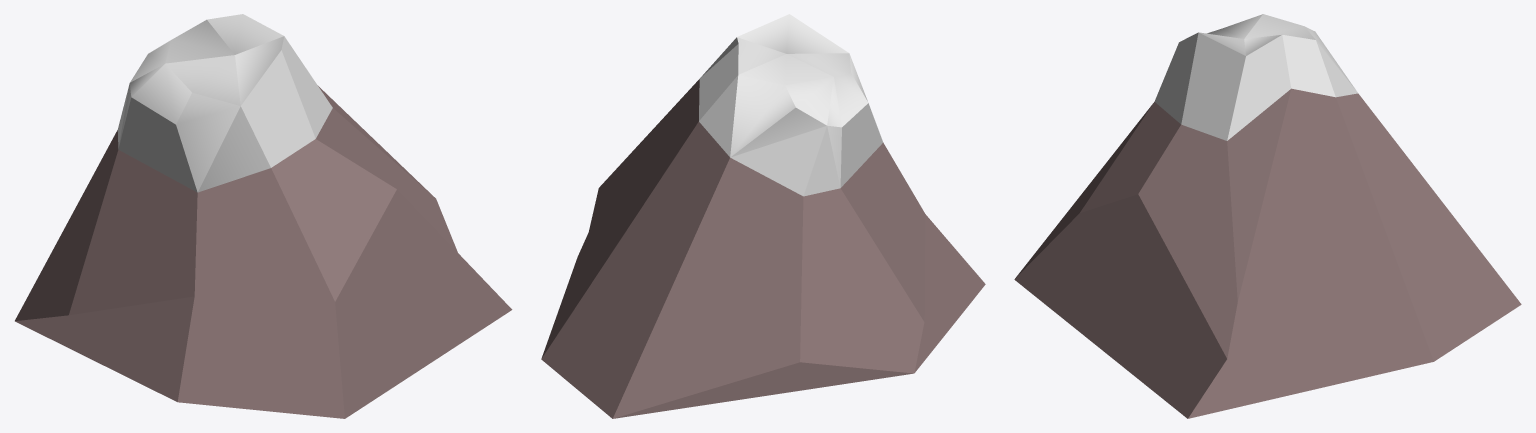
Rendered from rock1.fbx.
3 views of the same model, side by side, from view 1: azimuth 30°, elevation 25°; view 2: azimuth 150°, elevation 25°; view 3: azimuth 270°, elevation 25° (orthographic). The views are drawn at different scales.
Parts seen in each view (by area): view 1: 柱体.070; view 2: 柱体.070; view 3: 柱体.070.
Boxes of the visible parts, bbox=[...] form: 柱体.070: bbox=[15, 14, 512, 418]; 柱体.070: bbox=[541, 14, 985, 418]; 柱体.070: bbox=[1014, 14, 1521, 418].
Bounding box in the file's own units: 407 × 286 × 460.
